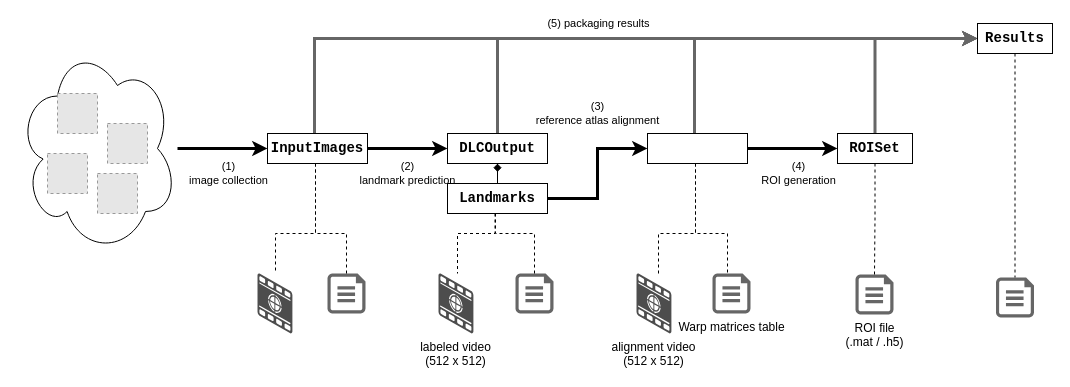
Some shapes in this 1070 by 387 pixel diagram are drawn without their labels. Grey dashed boxes stand in for pictures. Each missing label, with the box of its shape:
Alignment: (646, 132, 748, 164)
DLC results table: (515, 273, 553, 313)
Metadata table: (327, 273, 365, 313)
Results file (.mat / .h5): (996, 277, 1034, 317)
source-image video (512 x 512): (257, 273, 292, 333)
